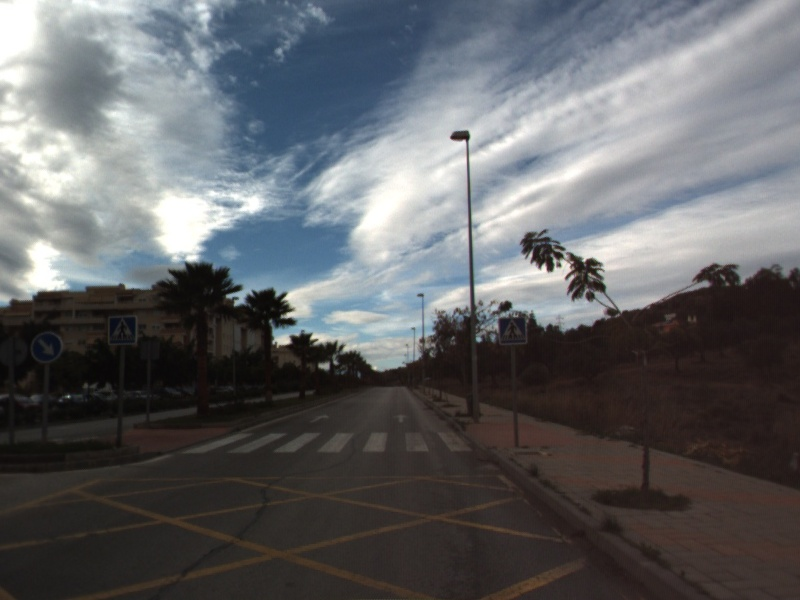STRAIGHT: (307, 412, 331, 425), (391, 411, 411, 424)
